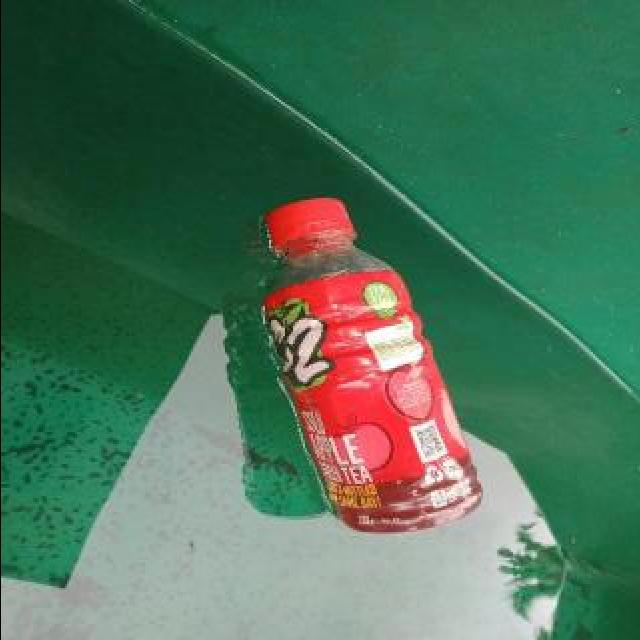Bottle: (252, 189, 488, 542)
